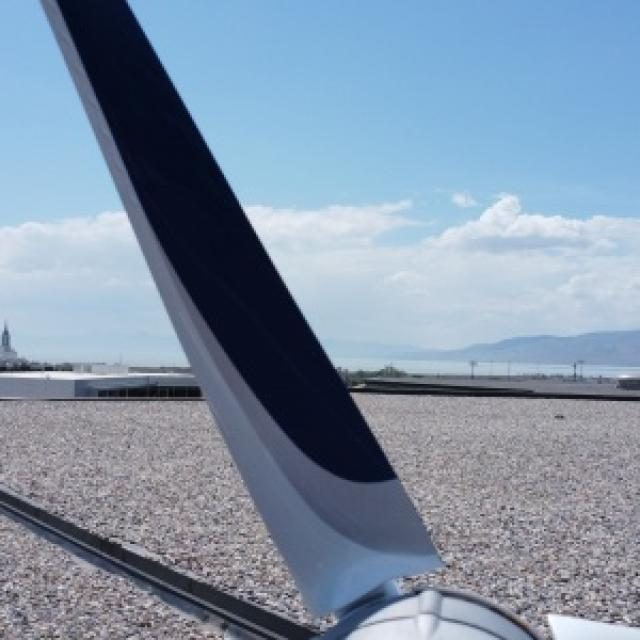healthy: (132, 0, 638, 215)
